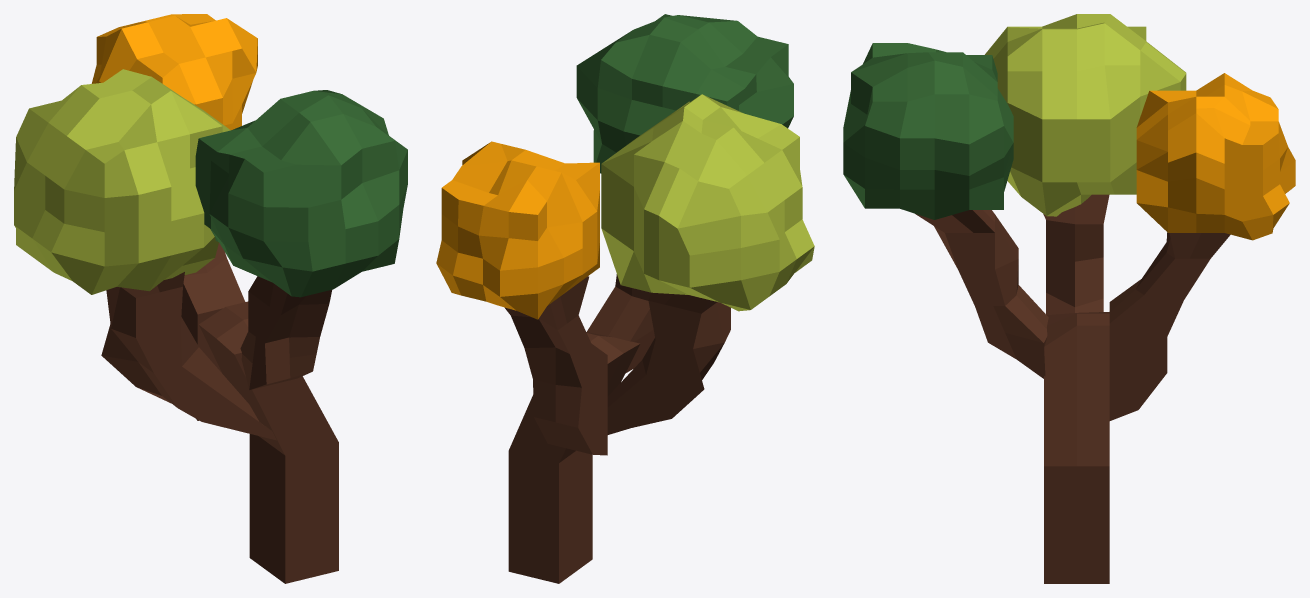
File: drzewo3.fbx
The picture shows the model from 3 angles, left to right: view 1: azimuth 30°, elevation 25°; view 2: azimuth 150°, elevation 25°; view 3: azimuth 270°, elevation 25°; orthographic projection. The views are drawn at different scales.
Visible parts, largest first — view 1: Cube.006, Cube.004, Cube, Cube.002, Cube.005, Cube.003, Cube.001; view 2: Cube.006, Cube.005, Cube.004, Cube, Cube.001, Cube.002, Cube.003; view 3: Cube.006, Cube.004, Cube.005, Cube, Cube.001, Cube.003, Cube.002.
Part boxes in pixels (x1,y1,x2,y2): Cube.006: [14, 69, 230, 294]; Cube.004: [195, 90, 407, 297]; Cube: [198, 301, 338, 583]; Cube.002: [101, 272, 276, 440]; Cube.005: [91, 14, 257, 130]; Cube.003: [240, 276, 331, 390]; Cube.001: [181, 243, 245, 420]; Cube.006: [601, 94, 814, 311]; Cube.005: [436, 141, 599, 319]; Cube.004: [576, 14, 793, 173]; Cube: [508, 332, 639, 583]; Cube.001: [504, 276, 607, 455]; Cube.002: [607, 292, 730, 434]; Cube.003: [587, 274, 654, 373]; Cube.006: [985, 14, 1186, 216]; Cube.004: [843, 43, 1013, 219]; Cube.005: [1136, 73, 1295, 240]; Cube: [1044, 312, 1109, 583]; Cube.001: [1109, 232, 1230, 420]; Cube.003: [915, 210, 1048, 378]; Cube.002: [1043, 194, 1109, 314].
Bounding box in the file's own units: 332 × 581 × 484.
